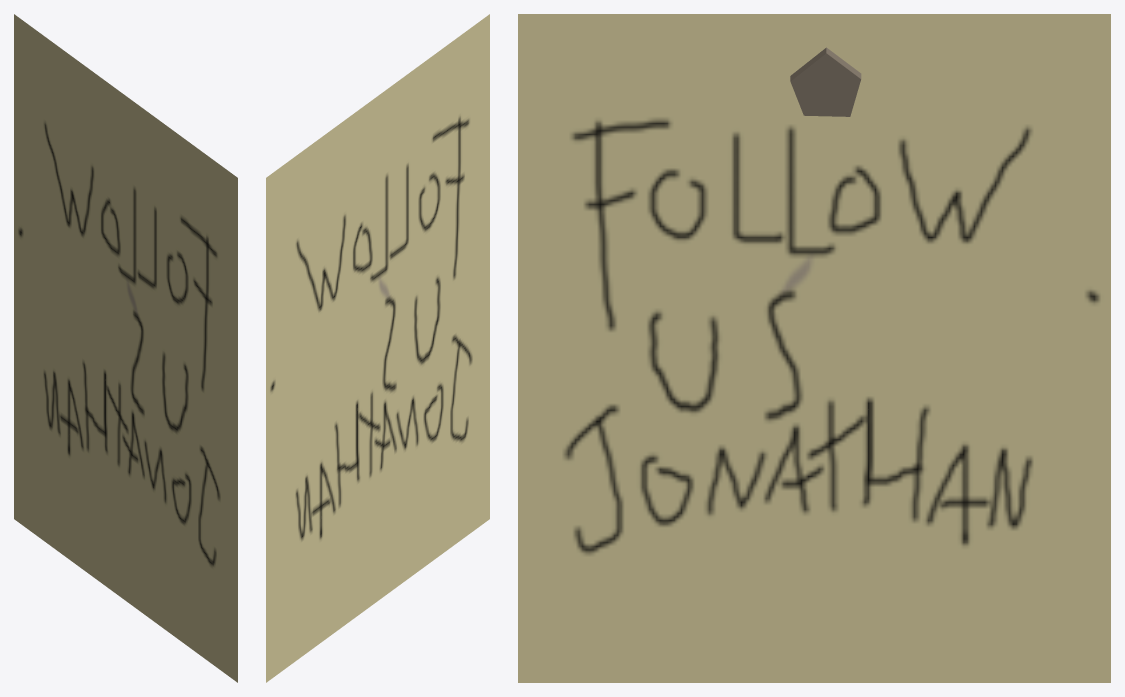
The model's file is ExportedBlenderFBXFile.fbx.
3 renders of one model, left to right at view 1: azimuth 30°, elevation 25°; view 2: azimuth 150°, elevation 25°; view 3: azimuth 270°, elevation 25°, orthographic. The views are drawn at different scales.
Parts seen in each view (by area): view 1: Plane; view 2: Plane; view 3: Plane.
Part boxes in pixels (left/top/right/bottom): Plane: left=14, top=14, right=237, bottom=682; Plane: left=266, top=14, right=489, bottom=682; Plane: left=518, top=14, right=1110, bottom=682.
Bounding box in the file's own units: 0.0153 × 0.8174 × 0.6565.
